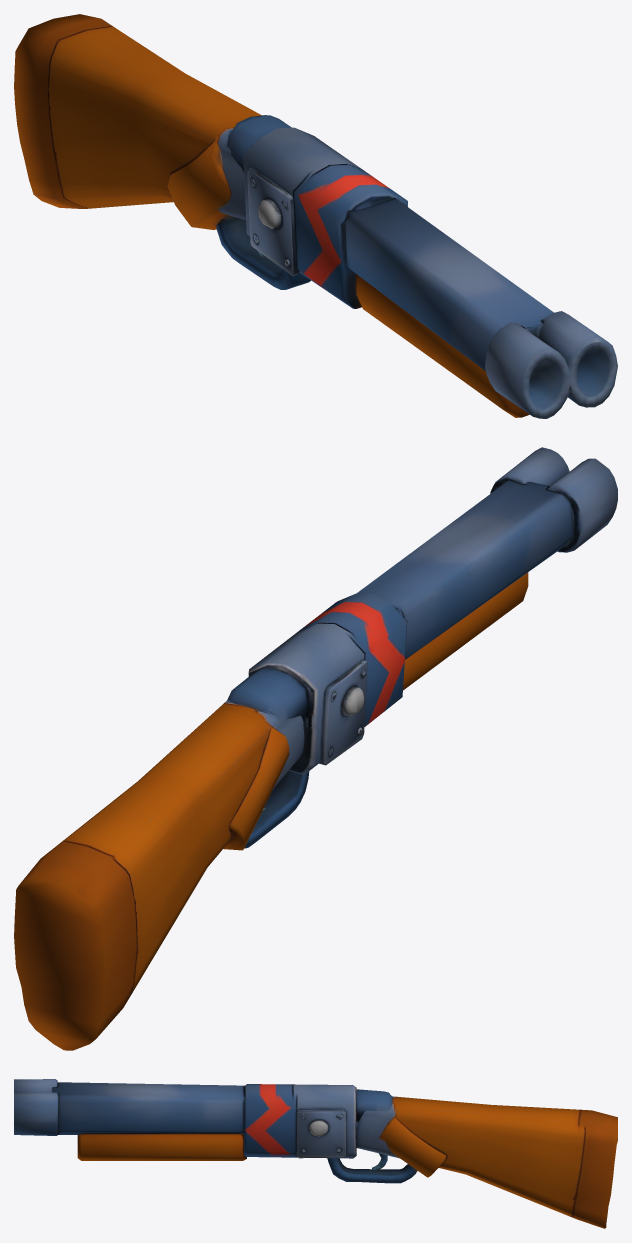
The model's file is weapon-shotgun.glb.
3 views of the same model, one above another, from view 1: azimuth 30°, elevation 25°; view 2: azimuth 150°, elevation 25°; view 3: azimuth 270°, elevation 25° (orthographic). The views are drawn at different scales.
Parts seen in each view (by area): view 1: tripo_node_76c8dec5-7d22-4f4e-95a2-44f8f7d35695; view 2: tripo_node_76c8dec5-7d22-4f4e-95a2-44f8f7d35695; view 3: tripo_node_76c8dec5-7d22-4f4e-95a2-44f8f7d35695.
Boxes of the visible parts, x1,y1,x2,y2 form: tripo_node_76c8dec5-7d22-4f4e-95a2-44f8f7d35695: (14, 14, 617, 418); tripo_node_76c8dec5-7d22-4f4e-95a2-44f8f7d35695: (14, 447, 617, 1050); tripo_node_76c8dec5-7d22-4f4e-95a2-44f8f7d35695: (14, 1079, 617, 1228).
Bounding box in the file's own units: 0.0808 × 0.1795 × 0.7.
1 material, 1 textured.
